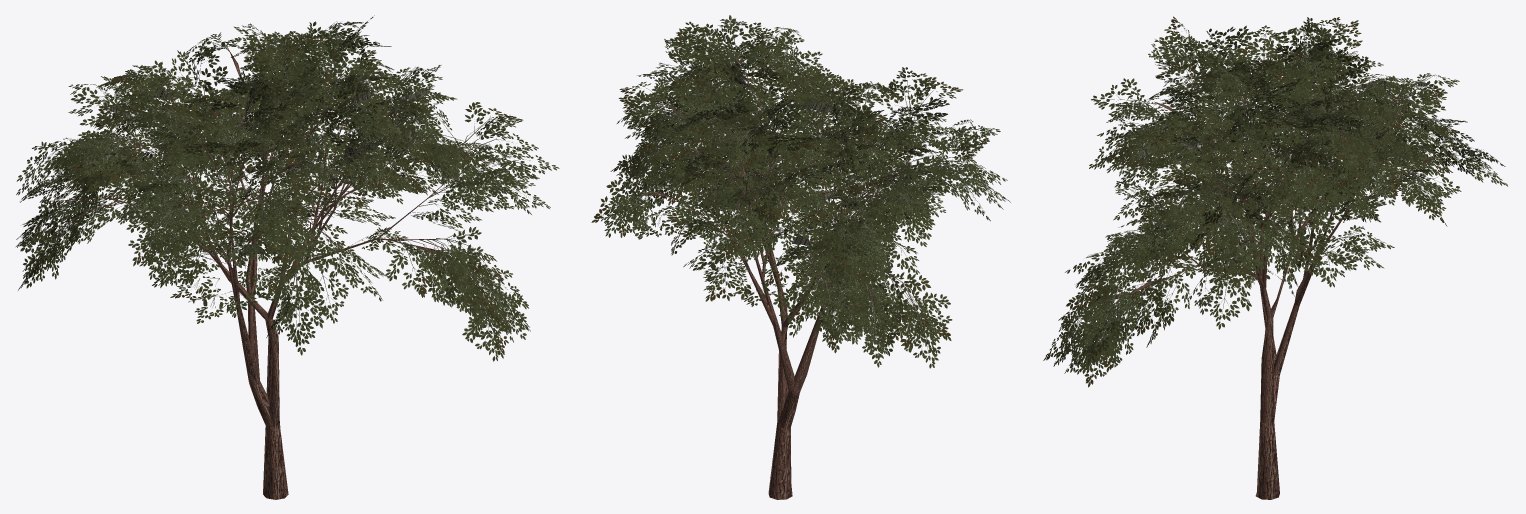
The model's file is tree1.fbx.
3 views of the same model, side by side, from view 1: azimuth 30°, elevation 25°; view 2: azimuth 150°, elevation 25°; view 3: azimuth 270°, elevation 25° (orthographic). The views are drawn at different scales.
Visible parts, largest first — view 1: polySurface1; view 2: polySurface1; view 3: polySurface1.
Part boxes in pixels (x1,y1,x2,y2): polySurface1: (16,15,559,499); polySurface1: (591,15,1010,499); polySurface1: (1043,16,1507,499).
Bounding box in the file's own units: 3.63 × 3.82 × 3.55.
